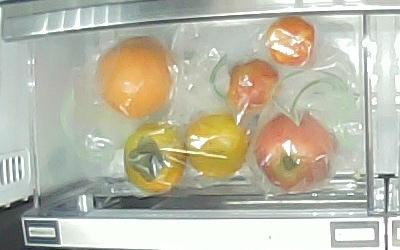apple_vinyl: (255, 114, 337, 193)
grapefruit_vinyl: (95, 36, 174, 120)
persimmon_vinyl: (124, 122, 186, 193), (186, 112, 248, 177)
prune_vinyl: (266, 15, 316, 69), (227, 59, 279, 110)
